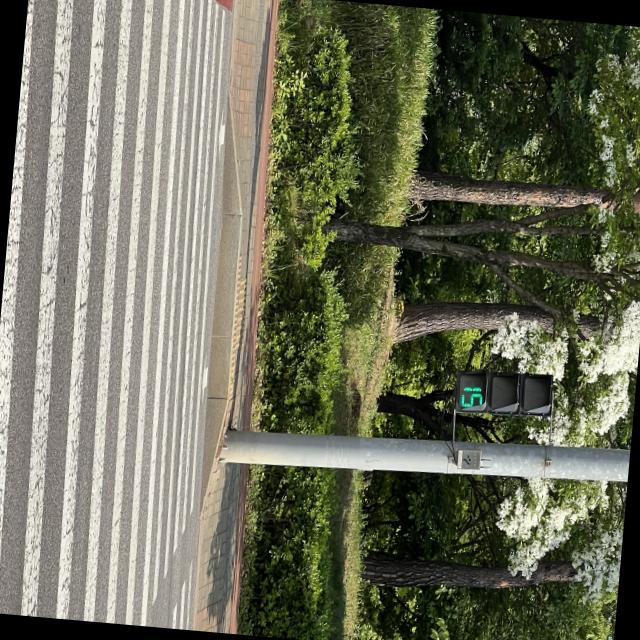green_light: (429, 366, 560, 436)
zebra: (0, 0, 251, 630)
